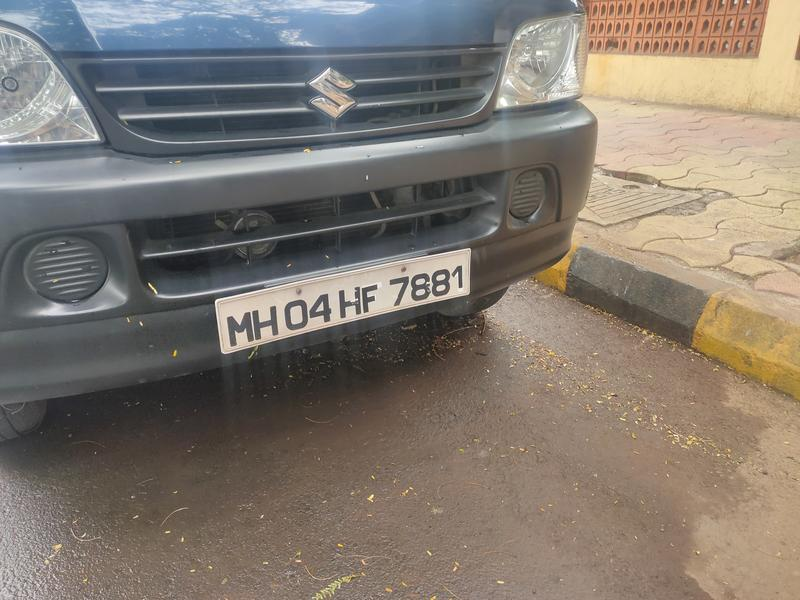license_plate: (209, 244, 479, 380)
